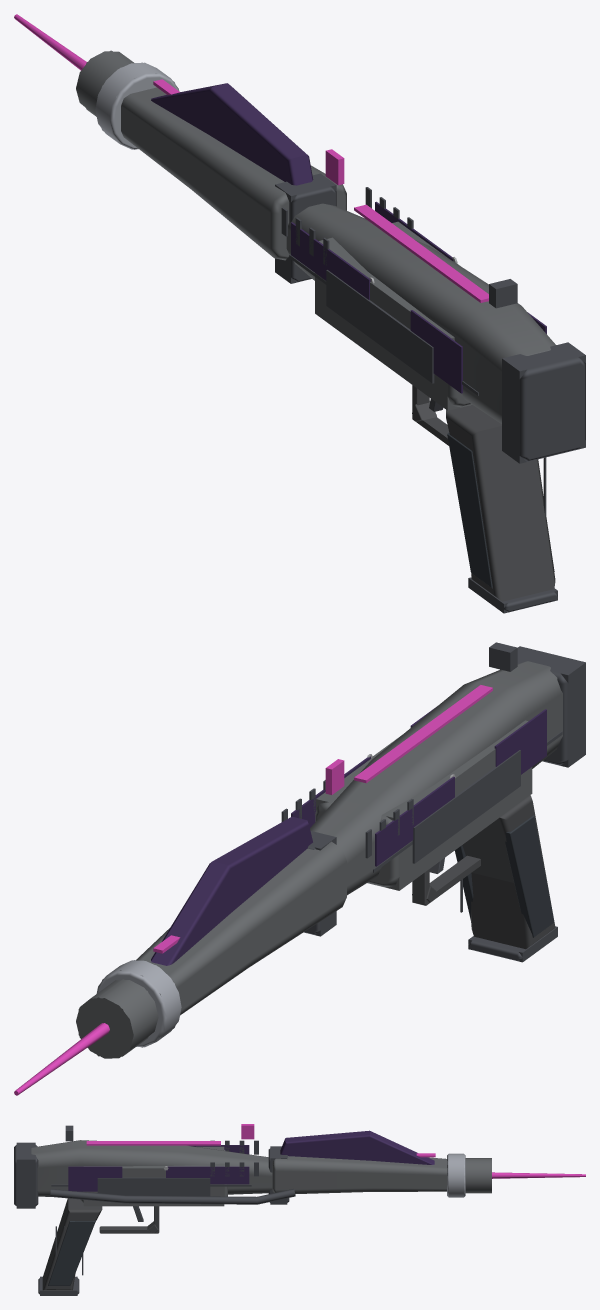
File: e_splinter.glb
The picture shows the model from 3 angles, top to bottom: view 1: azimuth 30°, elevation 25°; view 2: azimuth 150°, elevation 25°; view 3: azimuth 270°, elevation 25°; orthographic projection. The views are drawn at different scales.
Visible parts, largest first — view 1: L0, L1; view 2: L0, L1; view 3: L0, L1.
Boxes of the visible parts, x1,y1,x2,y2 form: L0: (14,14,585,612); L1: (15,14,585,613); L0: (14,642,585,1095); L1: (14,646,585,1094); L0: (14,1124,585,1294); L1: (16,1142,585,1295).
Size of the model in its own units: 0.0654 by 0.1926 by 0.609.
